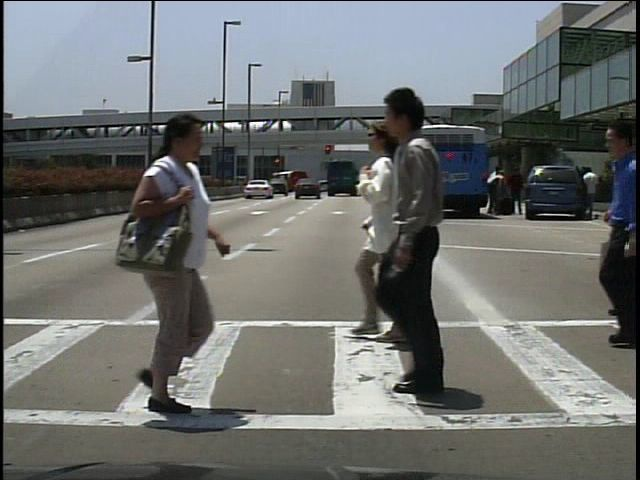person: (350, 85, 483, 397), (104, 119, 239, 418), (334, 117, 455, 358), (485, 162, 503, 214), (508, 166, 526, 216), (585, 168, 602, 218)
